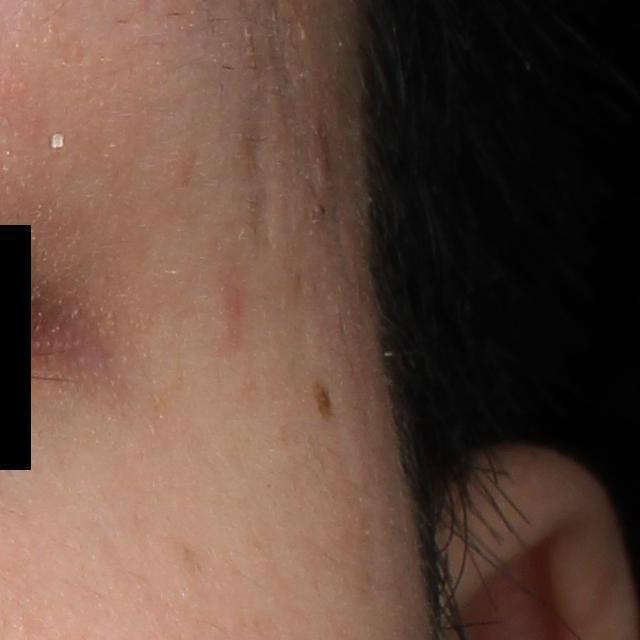atrophic_scar: (240, 96, 288, 254)
nevus: (310, 379, 334, 428)
